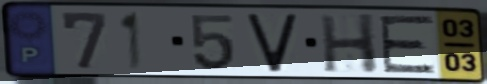1: (116, 9, 146, 73)
5: (187, 12, 238, 72)
7: (57, 9, 110, 71)
E: (376, 14, 439, 75)
H: (317, 12, 381, 76)
V: (244, 11, 300, 74)
